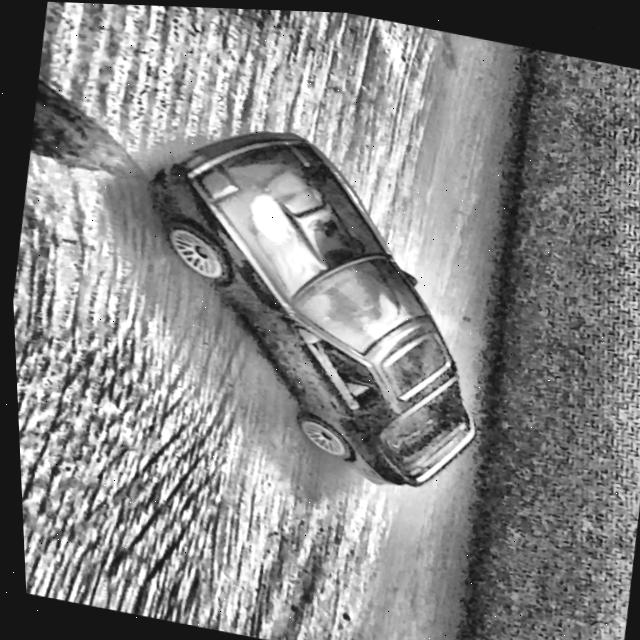car: (104, 105, 516, 502)
